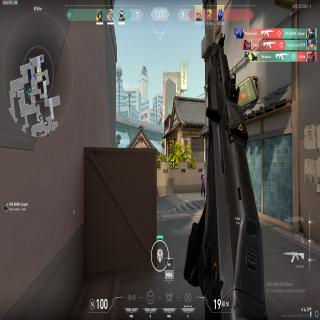ENEMY-BODY: (200, 170, 206, 196)
ENEMY-HEAD: (202, 172, 204, 176)
